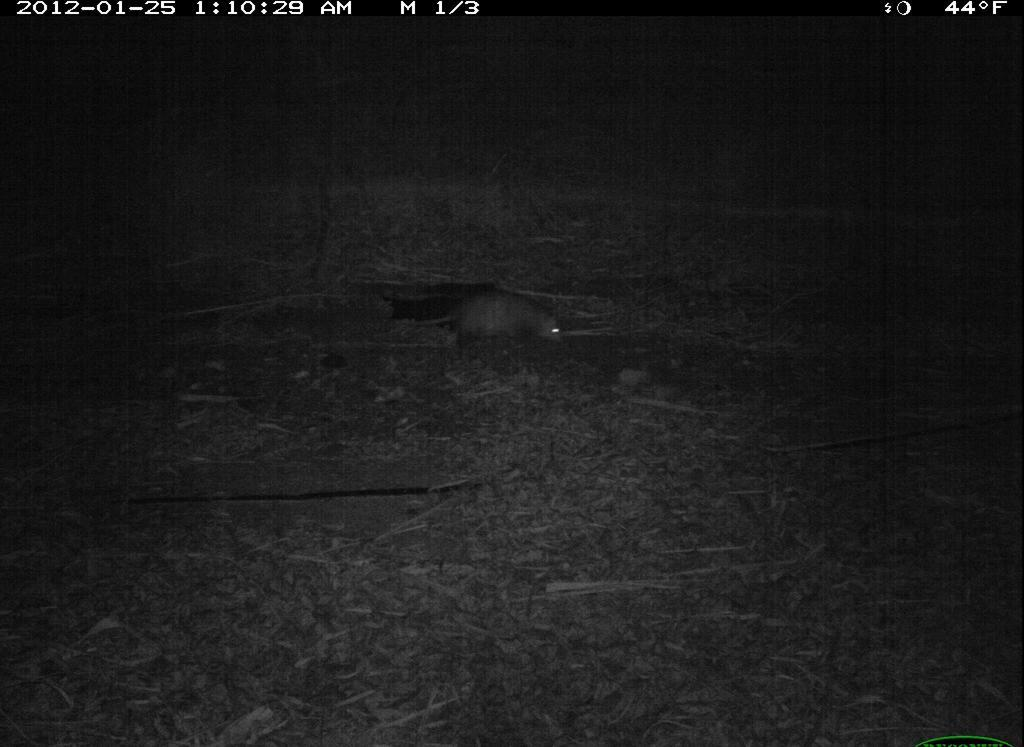opossum: (396, 285, 580, 356)
